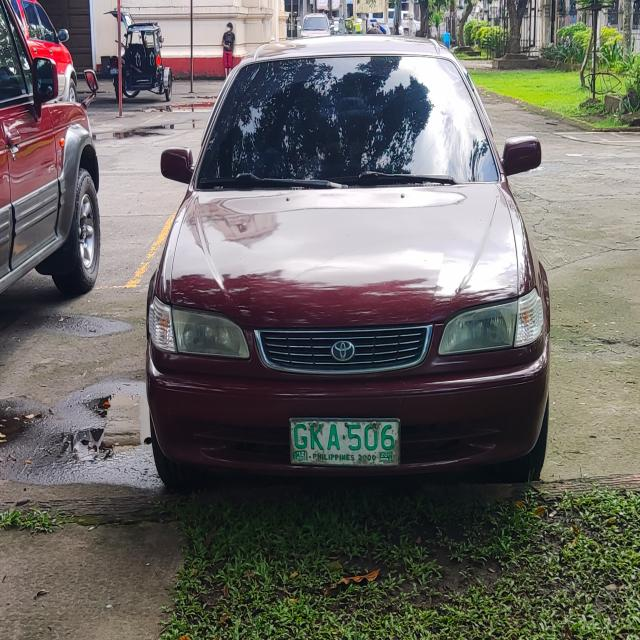plate: (288, 415, 402, 469)
